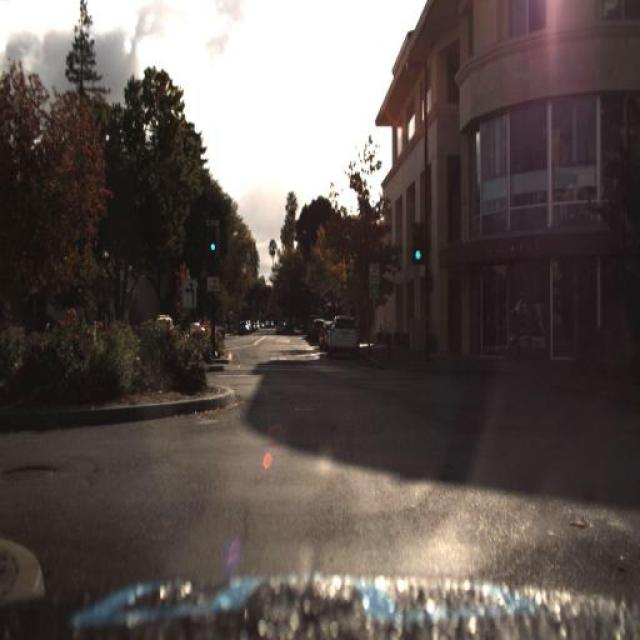car: (326, 314, 358, 360)
trafficLight: (508, 294, 524, 364)
trafficLight-Green: (204, 234, 221, 276), (412, 220, 427, 260)
trafficLight-GreenLeft: (206, 219, 218, 257)
